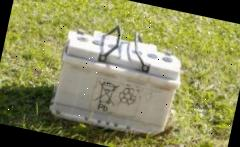electronic: (36, 5, 199, 147)
